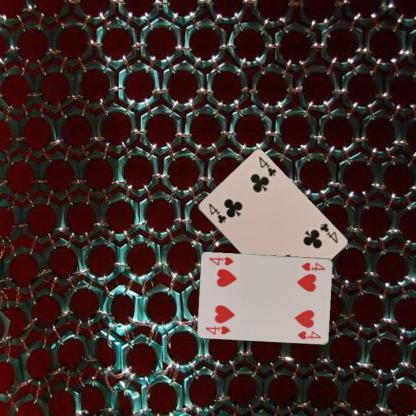4c: (316, 220, 340, 245), (206, 200, 228, 225)
4h: (203, 323, 231, 336), (300, 260, 326, 273)
